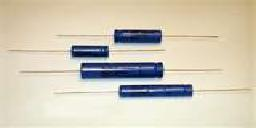Electrolytic-Capacitor: (51, 82, 256, 101), (16, 60, 231, 77), (53, 27, 219, 43), (9, 43, 175, 56)
